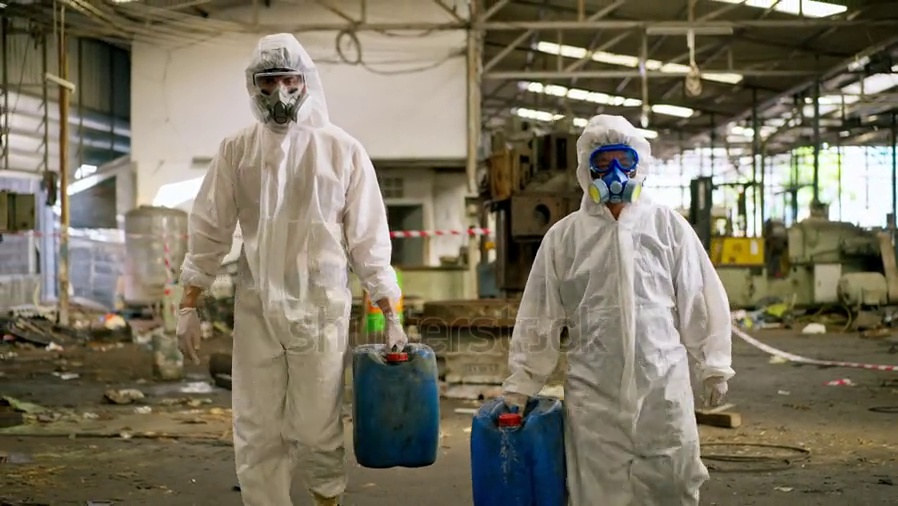mask: (255, 85, 308, 126), (587, 169, 644, 205)
person: (172, 33, 410, 506), (498, 113, 737, 506)
